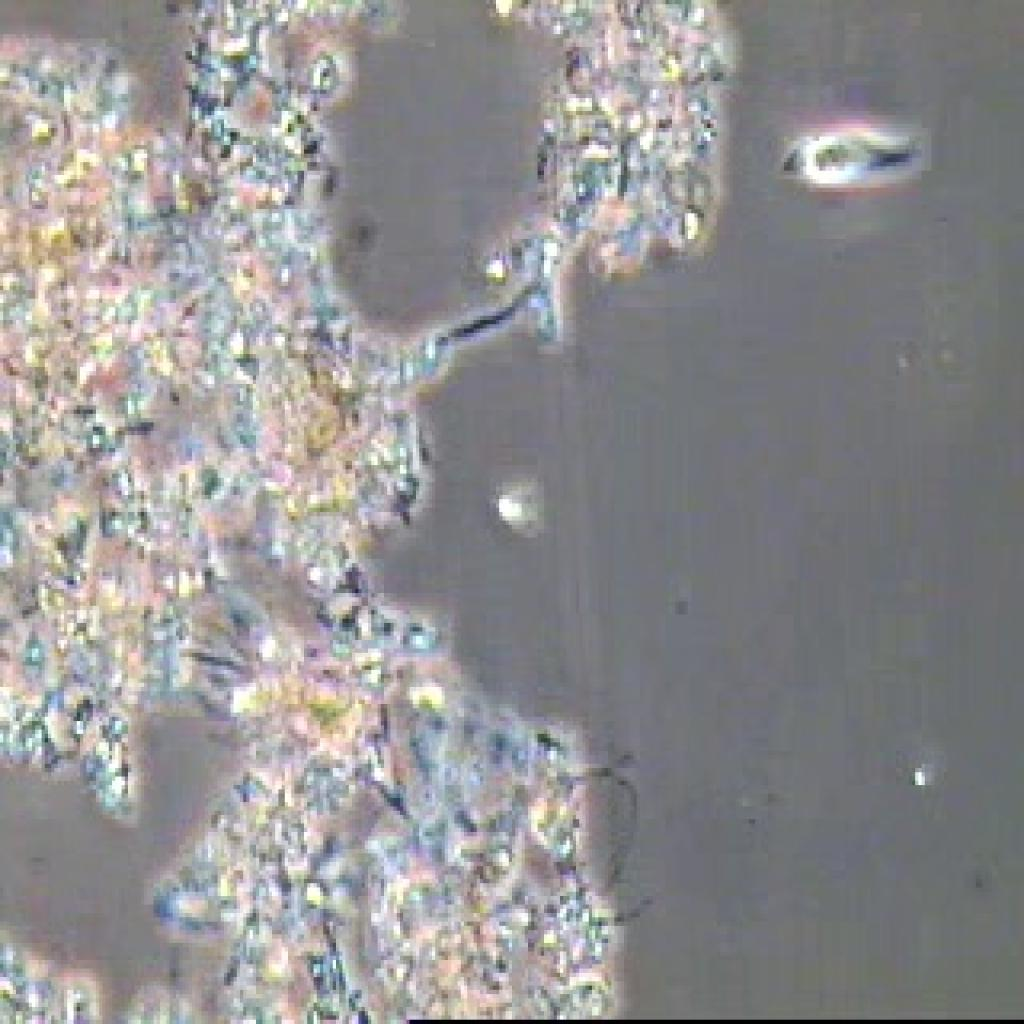Pristina: (765, 96, 947, 215)
